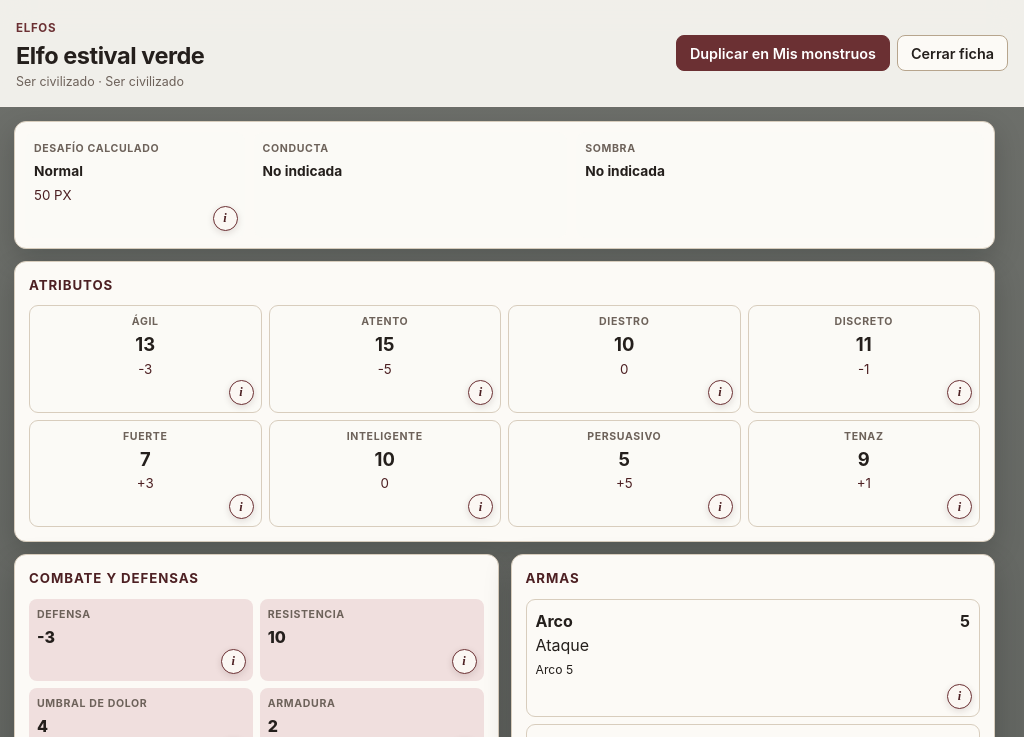
Test: MonsterReferenceSheet › muestra la mejora de dado de Tirador con ambos promedios
This screenshot has width=1024, height=737.
Click the button named "Ver cálculo de ataque de Arco" at (960, 696), box [947,684,972,709]
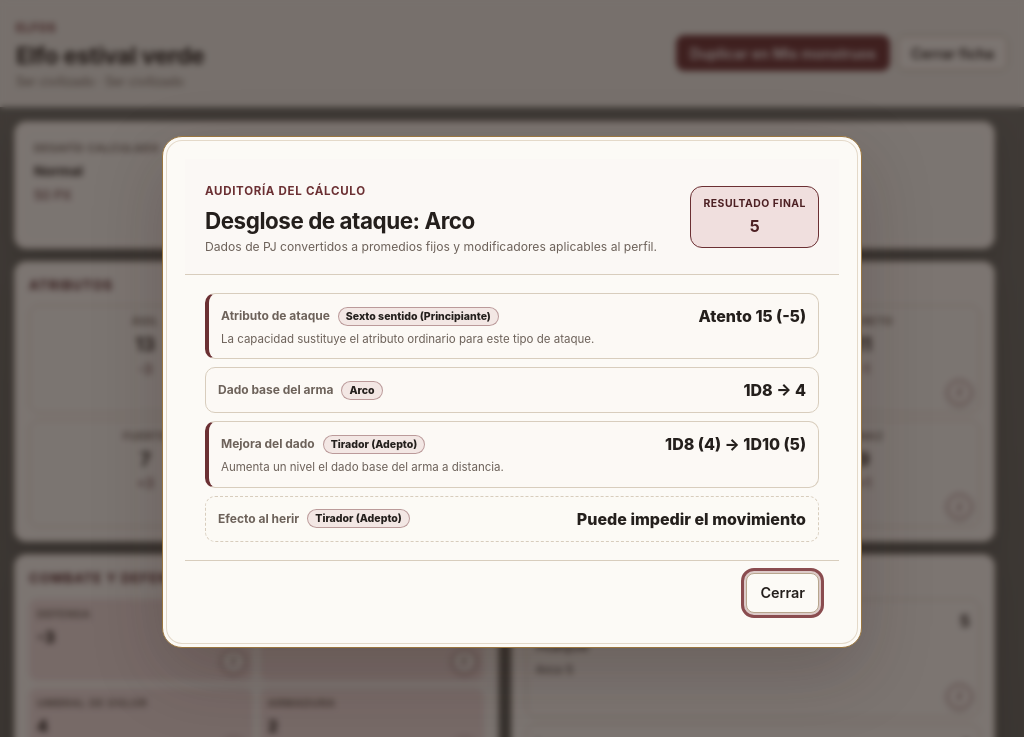
expect the text "Mejora del dado" shows "1D8 (4) → 1D10 (5)": met, box [665,434,806,454]
